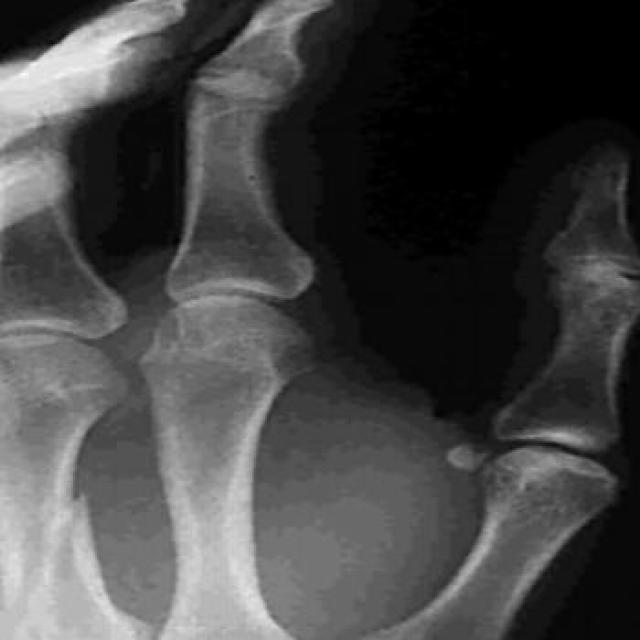Fracture: (26, 476, 105, 560)
